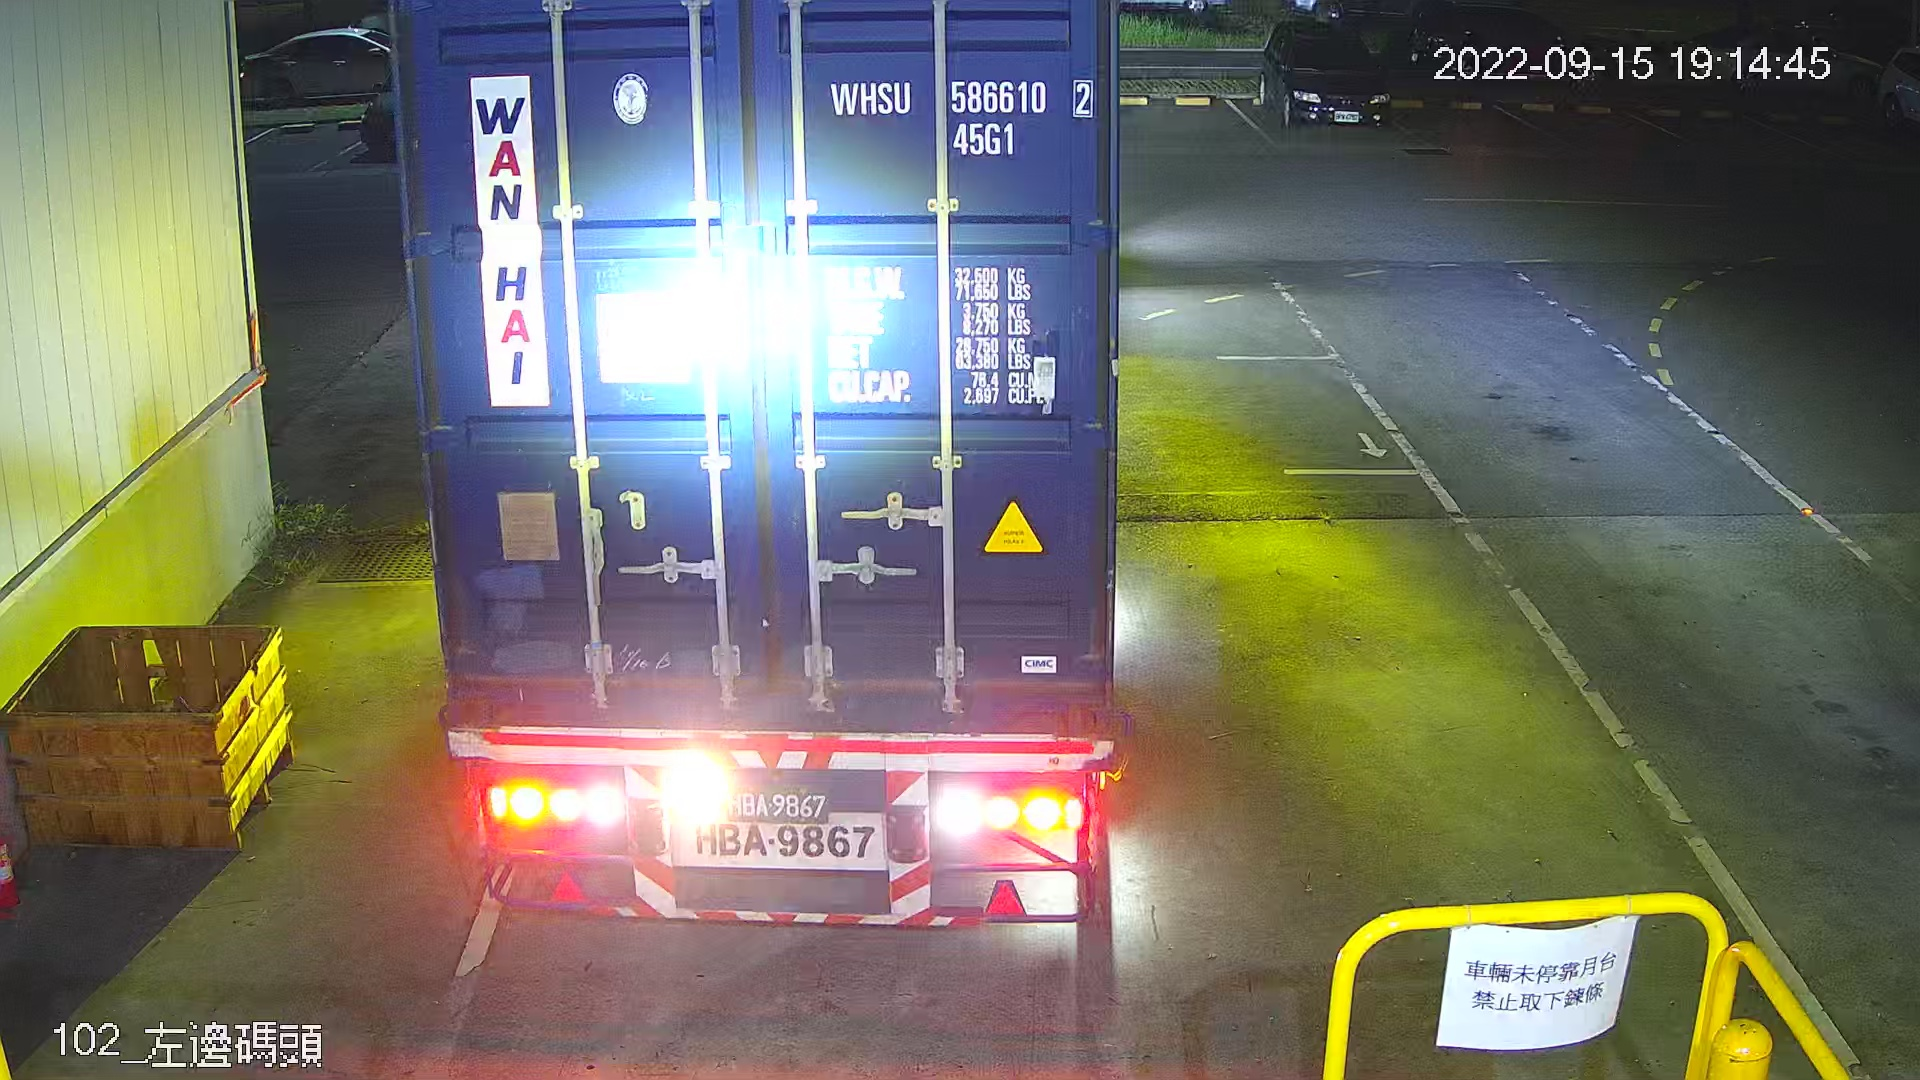container: (818, 67, 1101, 166)
